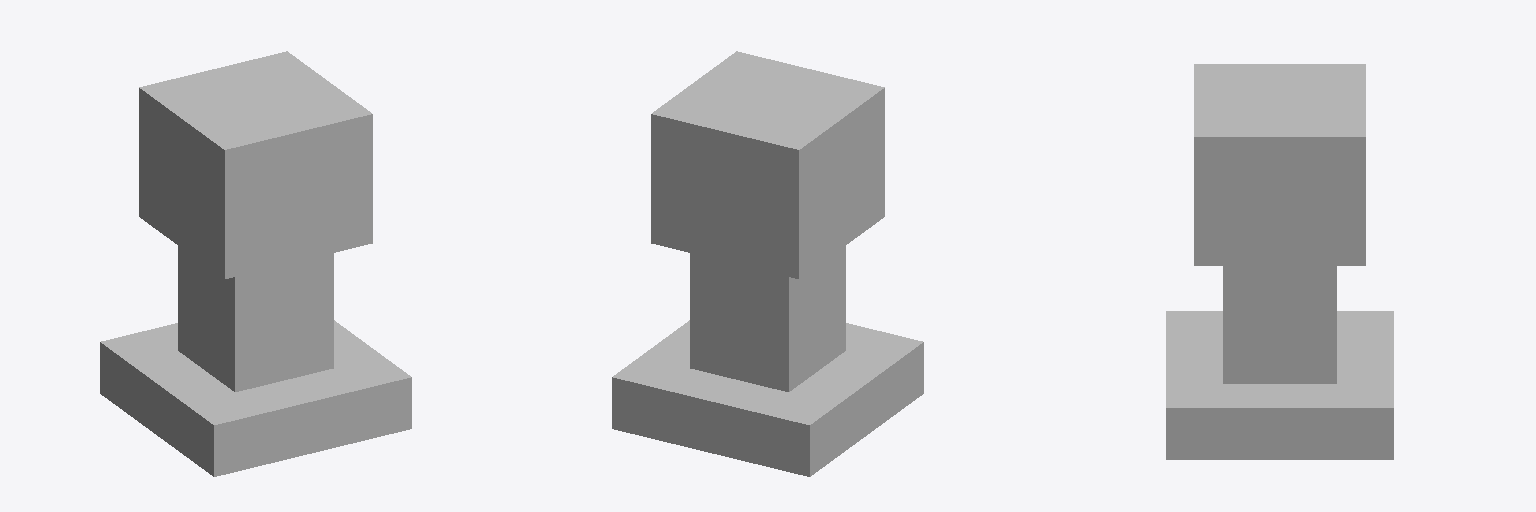
File: Figurine.obj
3 renders of one model, left to right at view 1: azimuth 30°, elevation 25°; view 2: azimuth 150°, elevation 25°; view 3: azimuth 270°, elevation 25°, orthographic.
Parts seen in each view (by area): view 1: Head, Stand, Body; view 2: Head, Stand, Body; view 3: Head, Stand, Body.
Part boxes in pixels (x1,y1,x2,y2): Head: (139,51,372,278); Stand: (100,320,411,476); Body: (178,246,333,391); Head: (651,51,884,278); Stand: (612,320,923,476); Body: (690,246,845,391); Head: (1194,64,1365,265); Stand: (1166,311,1393,459); Body: (1223,266,1336,383).
Bounding box in the file's own units: 1 × 1.5 × 1.